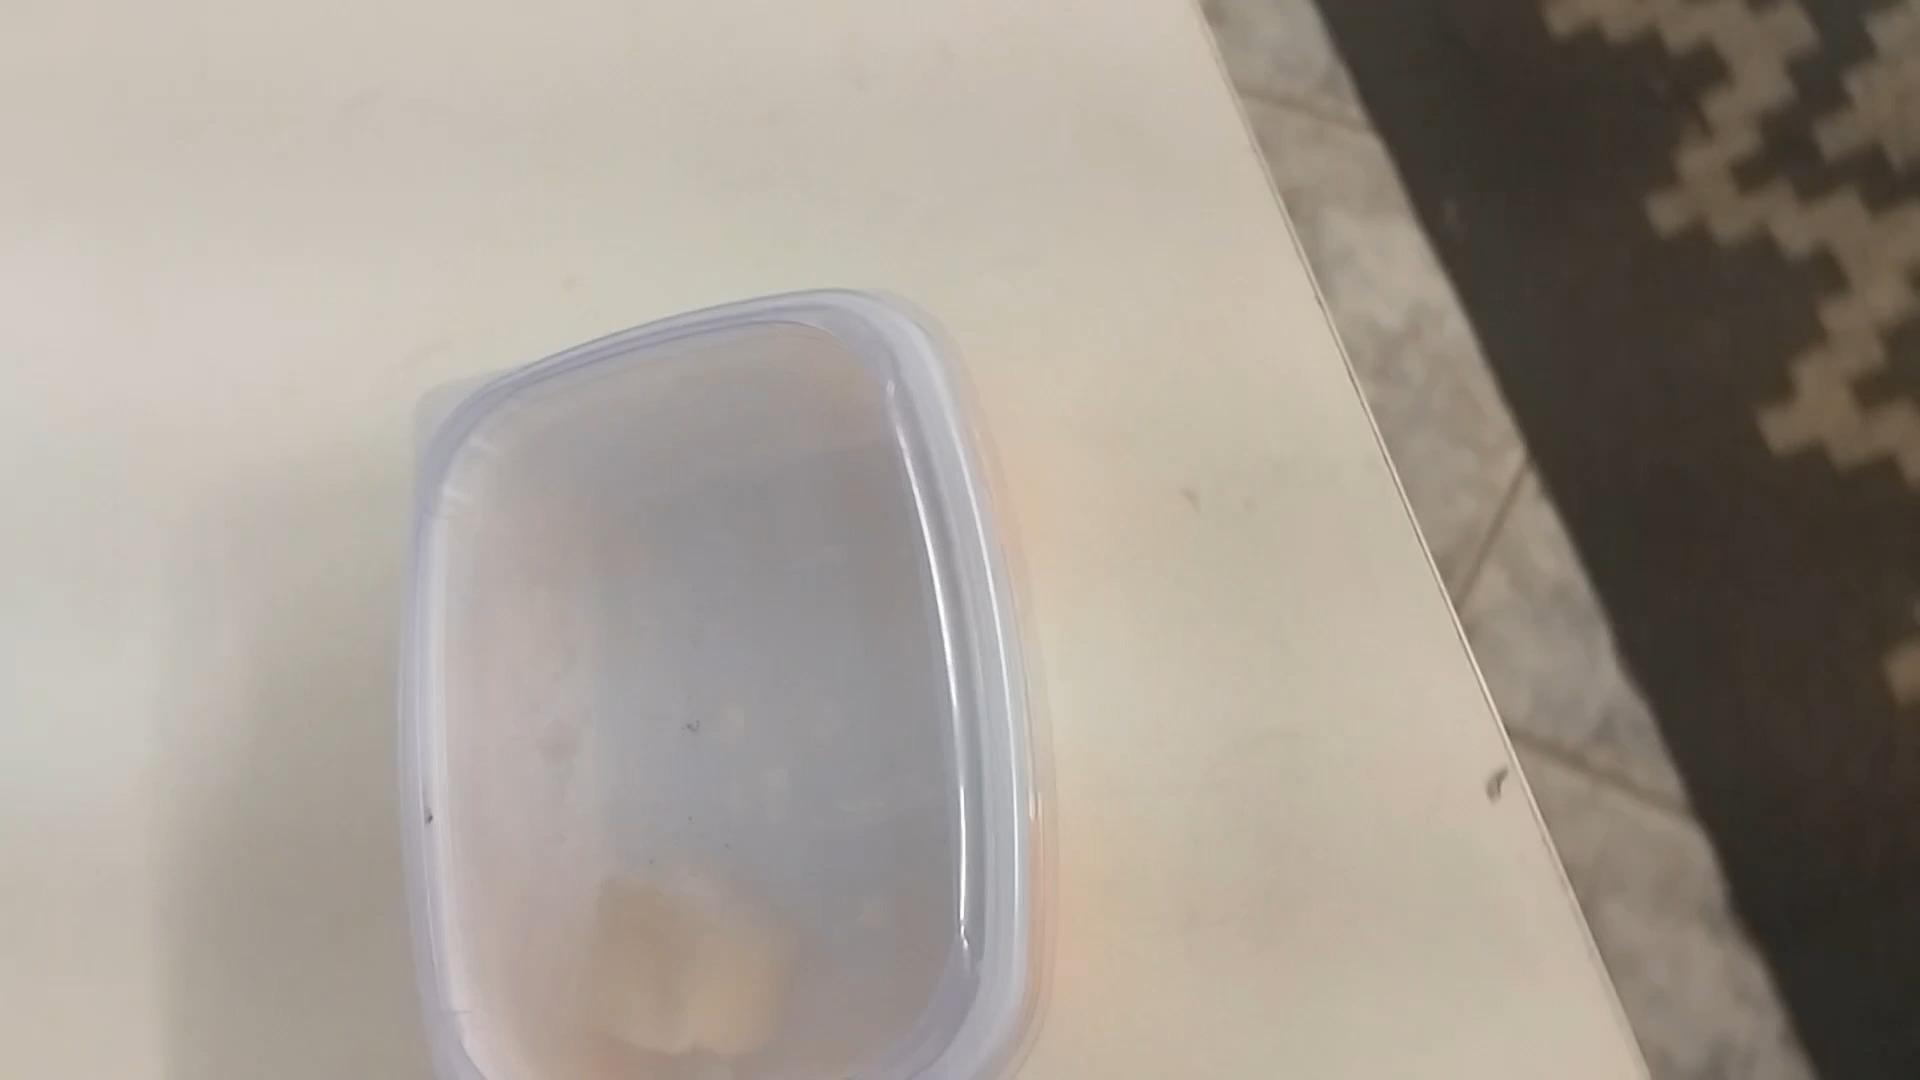butter: (405, 291, 1036, 1079)
